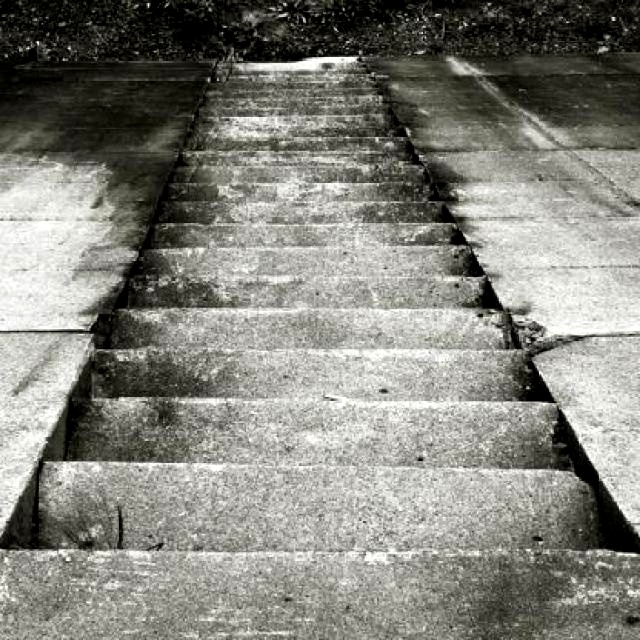stair: (102, 46, 562, 640)
